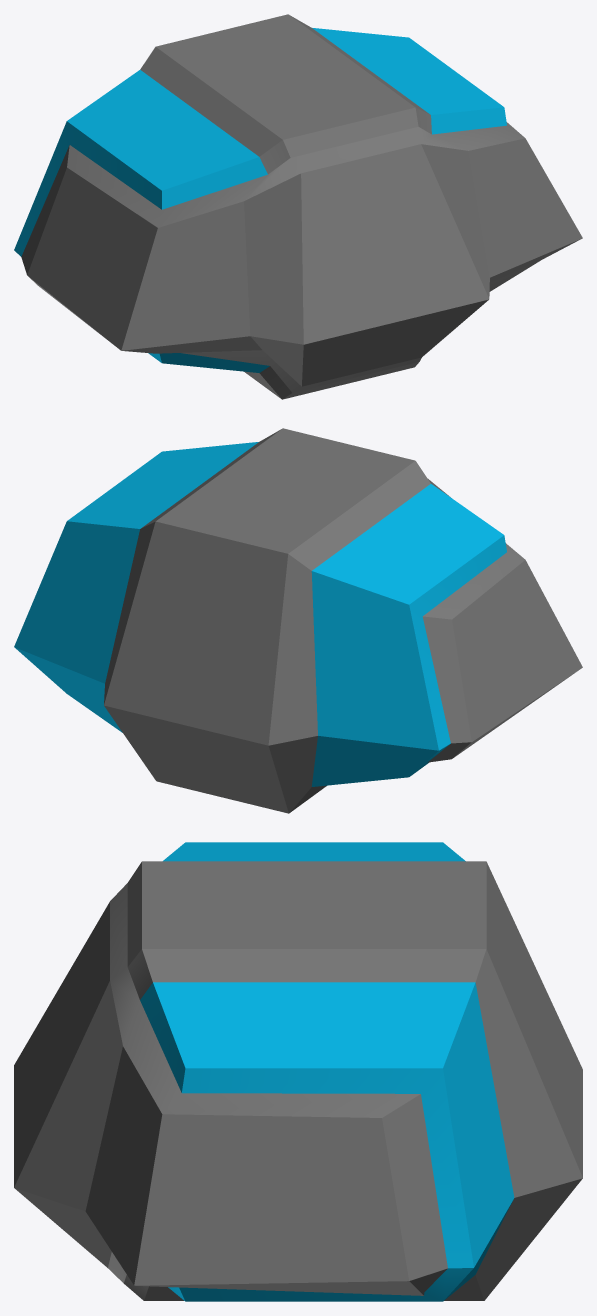
Rendered from _1Ship_PIece.fbx.
3 views of the same model, one above another, from view 1: azimuth 30°, elevation 25°; view 2: azimuth 150°, elevation 25°; view 3: azimuth 270°, elevation 25° (orthographic). The views are drawn at different scales.
Visible parts, largest first — view 1: Ship_PIece; view 2: Ship_PIece; view 3: Ship_PIece.
Part boxes in pixels (x1,y1,x2,y2): Ship_PIece: (14, 14, 582, 399); Ship_PIece: (14, 428, 582, 813); Ship_PIece: (14, 842, 582, 1301).
Size of the model in its own units: 350 by 189 by 276.
